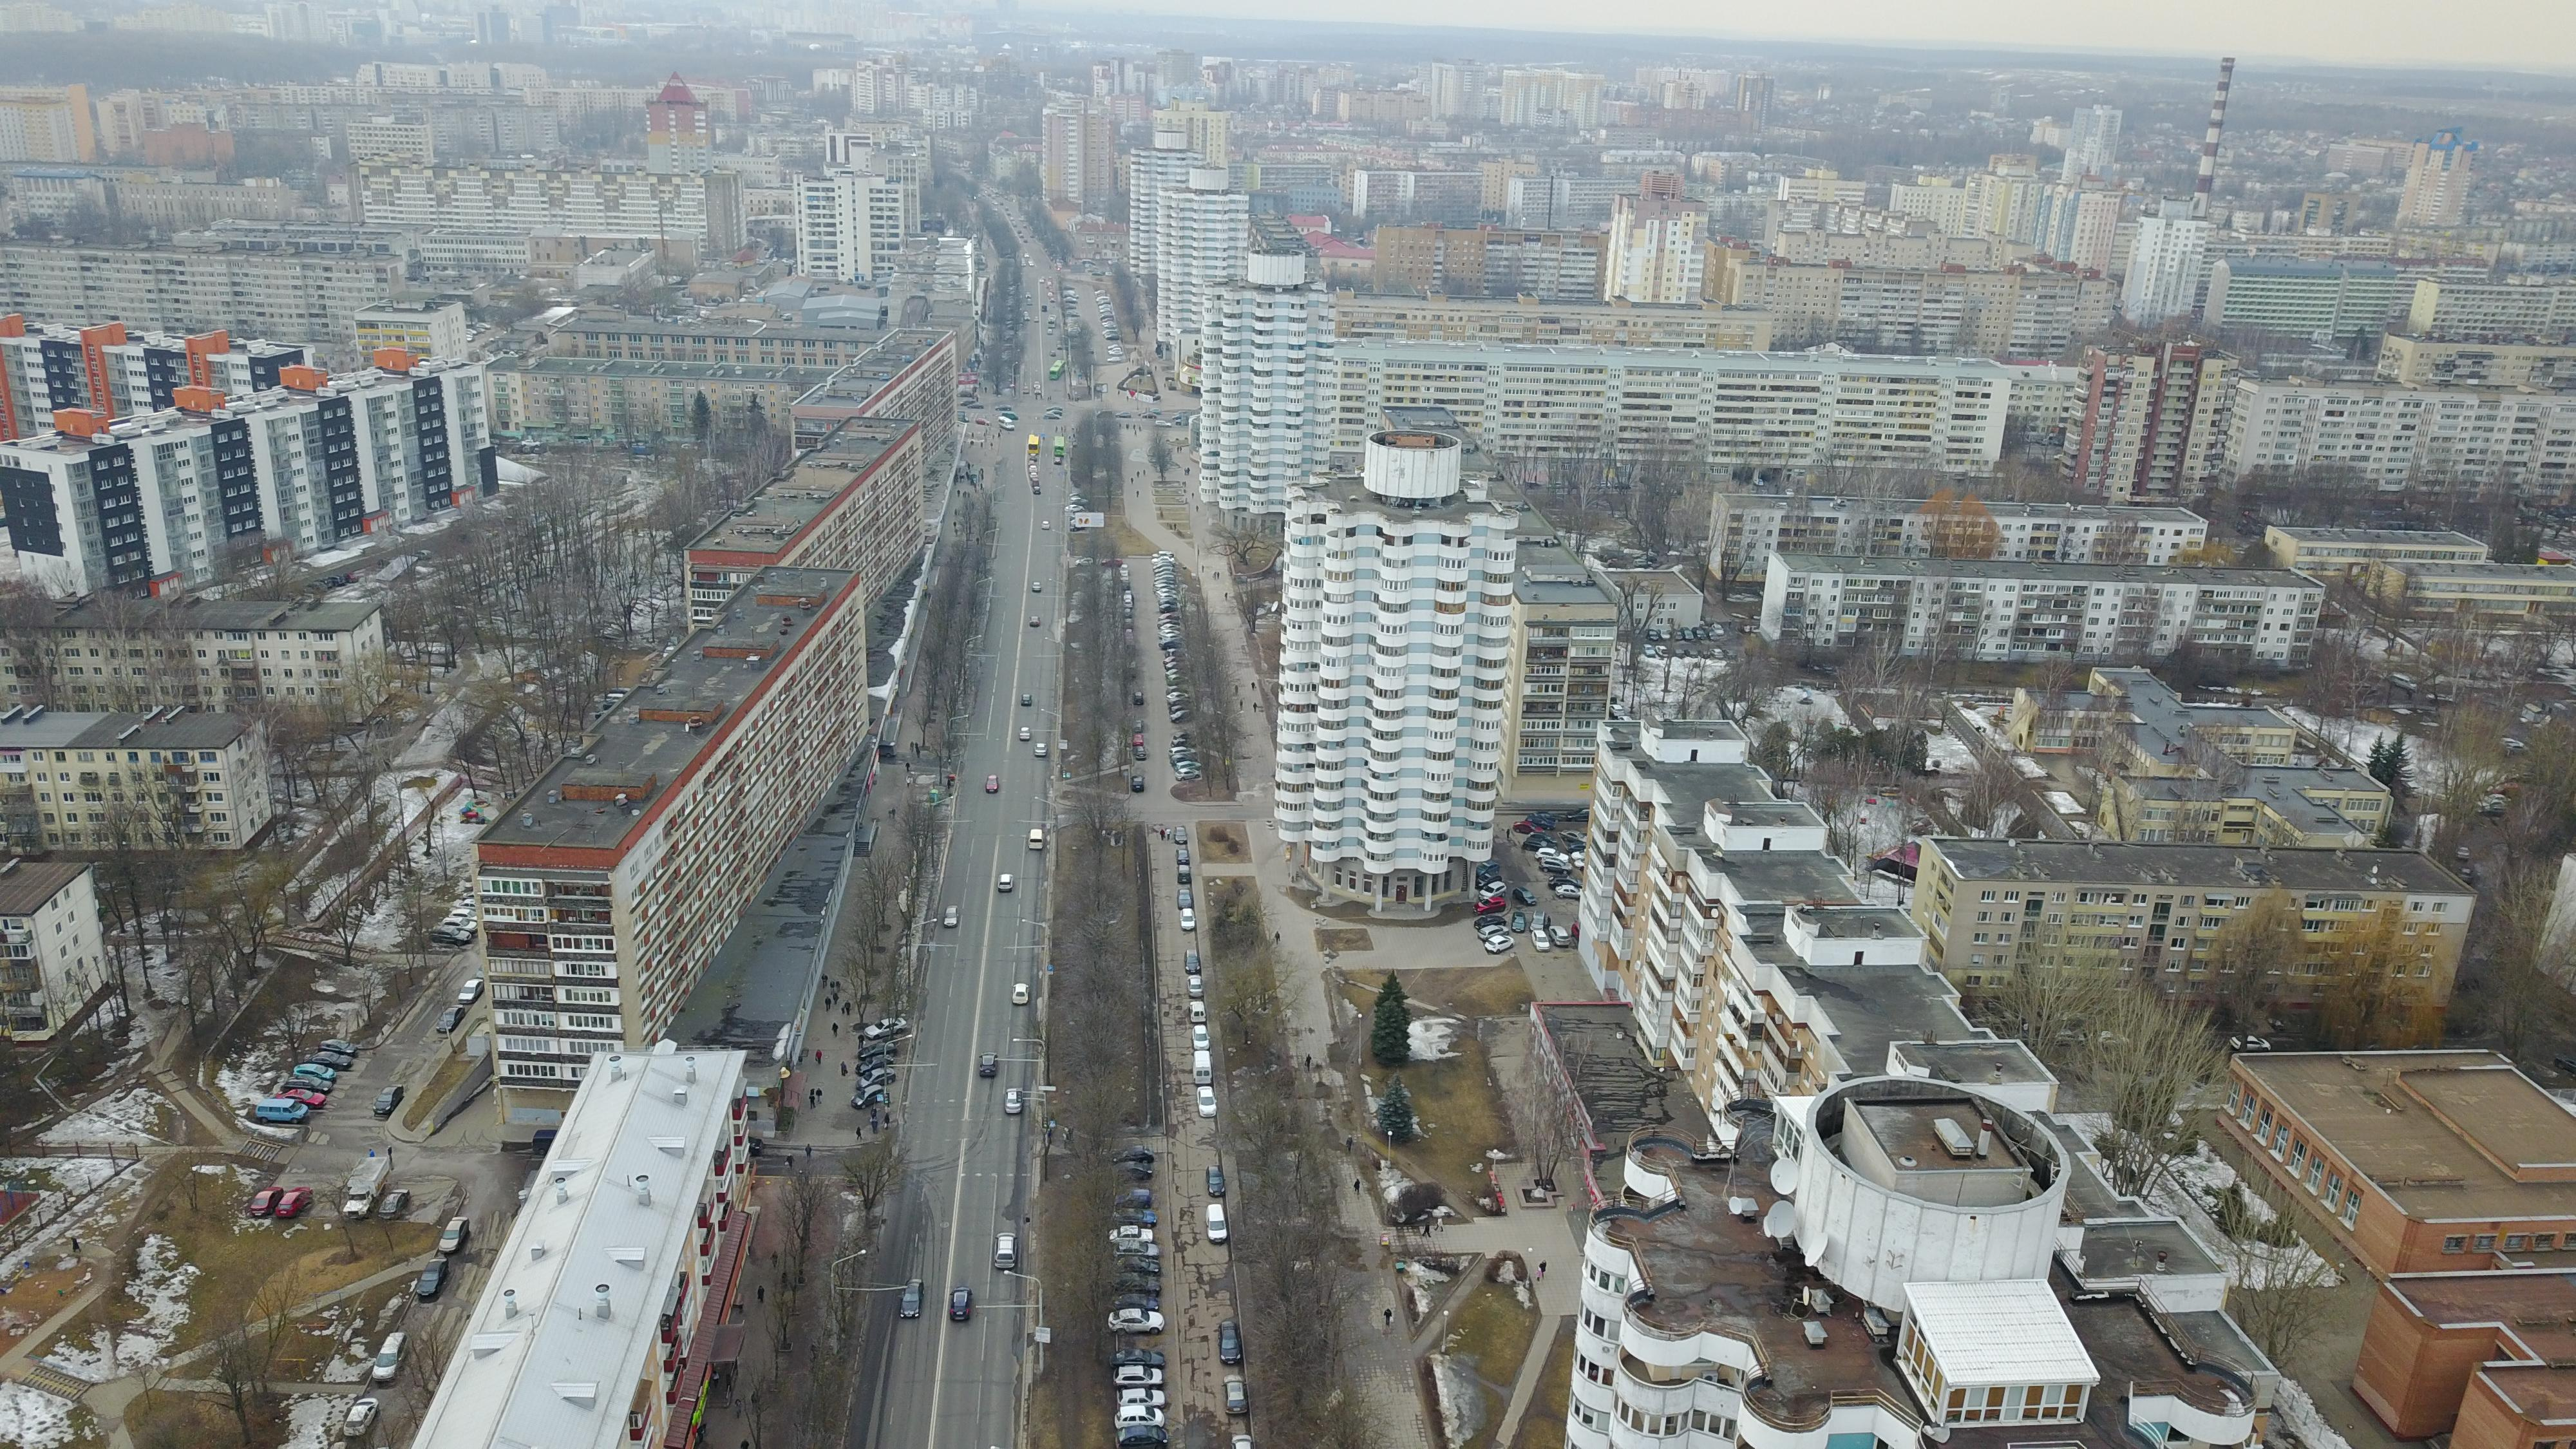car: (1106, 1307, 1164, 1336), (1111, 1364, 1164, 1391), (1113, 1403, 1166, 1430), (1108, 1346, 1168, 1369), (1108, 1254, 1164, 1277), (1221, 1373, 1249, 1415), (1219, 1318, 1244, 1366), (1109, 1276, 1162, 1297), (1108, 1293, 1161, 1315), (1113, 1387, 1166, 1408), (855, 1065, 897, 1092), (897, 1277, 924, 1318), (863, 1016, 908, 1039), (849, 1083, 885, 1111), (991, 1231, 1017, 1269), (1111, 1187, 1154, 1210), (1111, 1207, 1157, 1228), (853, 1053, 895, 1076), (855, 1039, 897, 1062), (1113, 1242, 1161, 1261), (948, 1286, 971, 1323), (1113, 1145, 1155, 1164), (1205, 1162, 1228, 1198), (1109, 1164, 1155, 1182), (1108, 1226, 1154, 1244), (1194, 1086, 1219, 1118), (1472, 895, 1506, 916), (977, 1049, 1000, 1077), (1484, 934, 1516, 954), (1546, 924, 1571, 948), (1529, 929, 1552, 954), (1003, 1086, 1024, 1113), (1191, 1024, 1212, 1051), (1476, 924, 1507, 941), (1474, 915, 1506, 932), (1511, 886, 1537, 906), (1187, 973, 1205, 1000), (1184, 947, 1201, 973), (1010, 982, 1030, 1005), (1175, 766, 1201, 782), (1178, 908, 1196, 931), (1177, 886, 1194, 909), (1530, 909, 1548, 932), (1189, 1001, 1207, 1023), (1175, 862, 1192, 883), (996, 872, 1014, 893), (1129, 771, 1146, 793), (943, 904, 959, 927), (1173, 824, 1191, 844), (1511, 911, 1527, 932), (1173, 761, 1203, 771), (1132, 745, 1150, 763), (1175, 846, 1191, 863), (985, 773, 998, 794), (1033, 740, 1047, 757), (1017, 725, 1031, 743), (1132, 718, 1146, 734), (1132, 688, 1145, 706), (1132, 732, 1146, 747), (1028, 579, 1042, 593), (1028, 614, 1042, 628), (1019, 694, 1033, 706)
